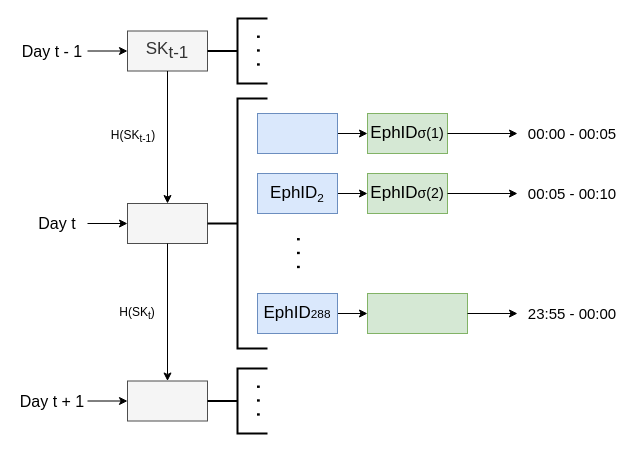
Some shapes in this 644 by 451 pixel diagram are drawn without their labels. Here are the shapes that lost their labels. From the top down, the centre of each, then its label:
point 297,133: EphID 1
point 167,223: SK t
point 417,313: EphID σ(288)
point 167,400: SK t+1
